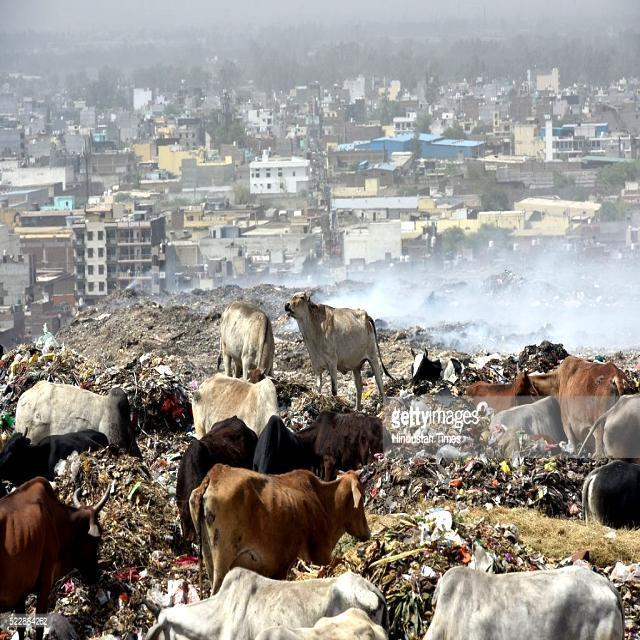Smoke: (339, 221, 639, 367)
